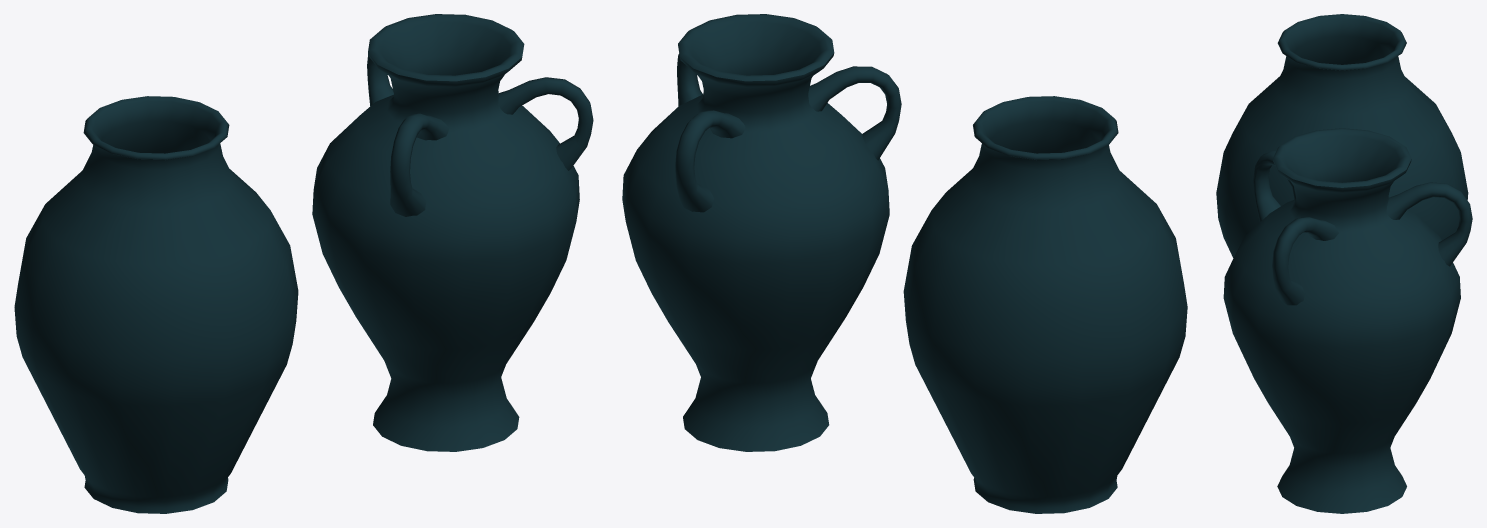
The model's file is low_pottery.fbx.
3 renders of one model, left to right at view 1: azimuth 30°, elevation 25°; view 2: azimuth 150°, elevation 25°; view 3: azimuth 270°, elevation 25°, orthographic. The views are drawn at different scales.
Visible parts, largest first — view 1: pottery2, pottery1; view 2: pottery2, pottery1; view 3: pottery1, pottery2.
Boxes of the visible parts, bbox=[...] form: pottery2: bbox=[14, 96, 298, 513]; pottery1: bbox=[312, 14, 593, 451]; pottery2: bbox=[903, 96, 1187, 513]; pottery1: bbox=[622, 14, 901, 451]; pottery1: bbox=[1223, 128, 1472, 513]; pottery2: bbox=[1216, 14, 1468, 257].
Bounding box in the file's own units: 179 × 121 × 85.02.
